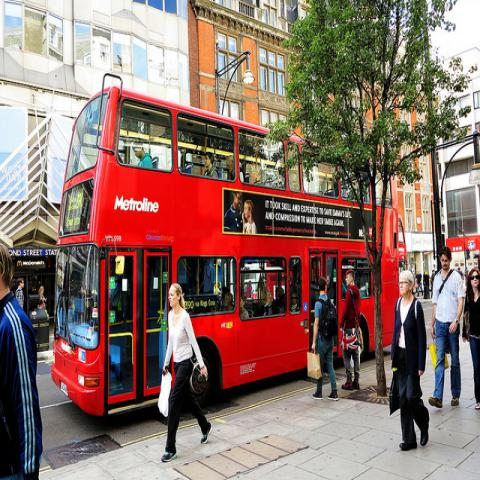bus: (46, 68, 410, 430)
